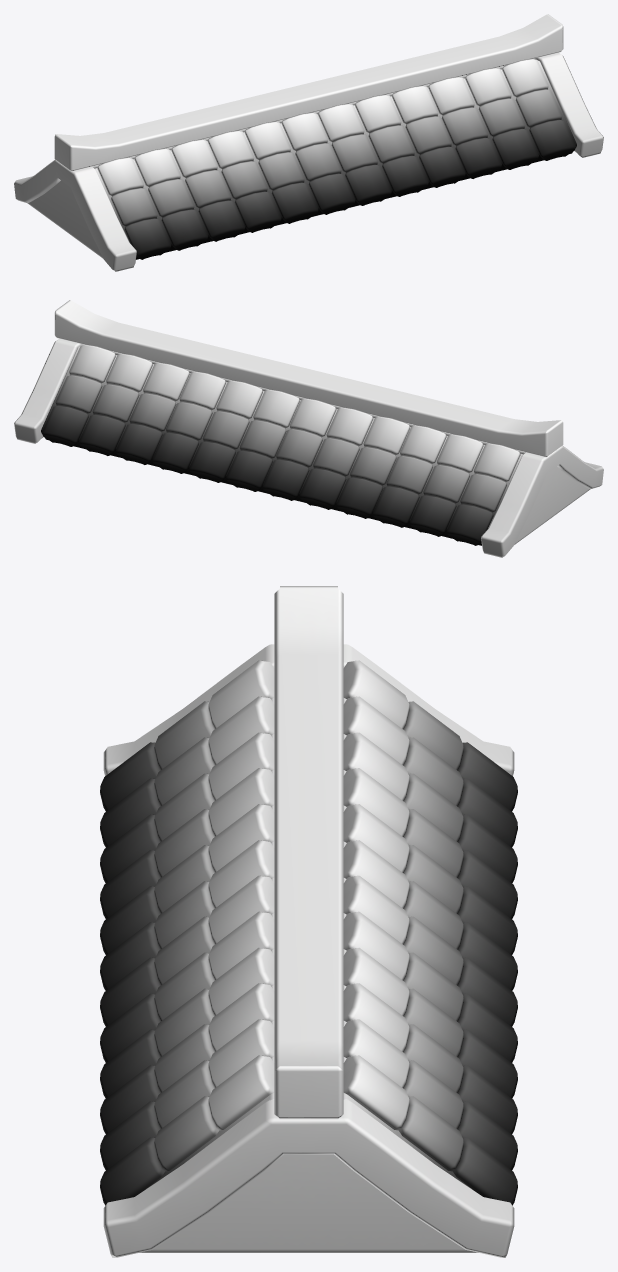
Rendered from SM_Stone_Roof_05.fbx.
3 views of the same model, one above another, from view 1: azimuth 30°, elevation 25°; view 2: azimuth 150°, elevation 25°; view 3: azimuth 270°, elevation 25° (orthographic). The views are drawn at different scales.
Parts seen in each view (by area): view 1: SM_Stone_Roof_05; view 2: SM_Stone_Roof_05; view 3: SM_Stone_Roof_05.
Boxes of the visible parts, left/top/right/bottom form: SM_Stone_Roof_05: left=14, top=14, right=603, bottom=271; SM_Stone_Roof_05: left=14, top=300, right=603, bottom=557; SM_Stone_Roof_05: left=100, top=586, right=517, bottom=1257.
Bounding box in the file's own units: 3.02 × 0.5679 × 1.11.
